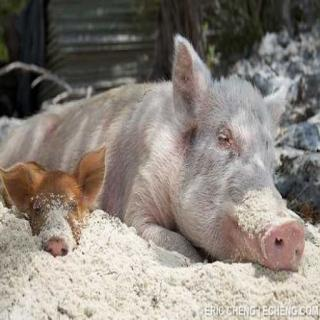Pig: (57, 44, 320, 267), (6, 151, 120, 261)
